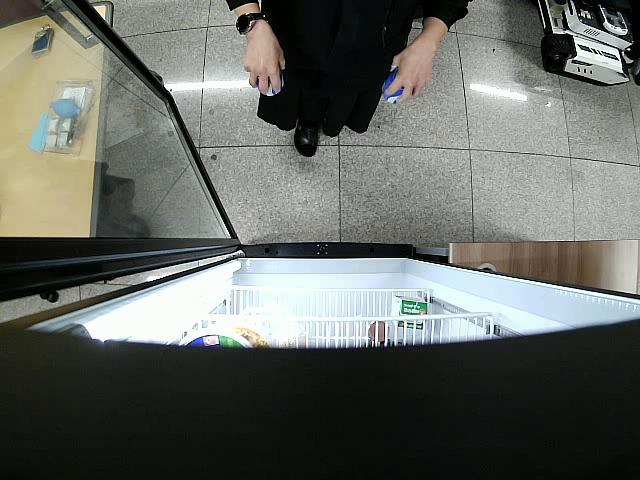00_hand: (384, 46, 433, 101), (243, 36, 287, 97)
13_pocariSweat: (380, 64, 405, 107), (256, 65, 285, 97)
